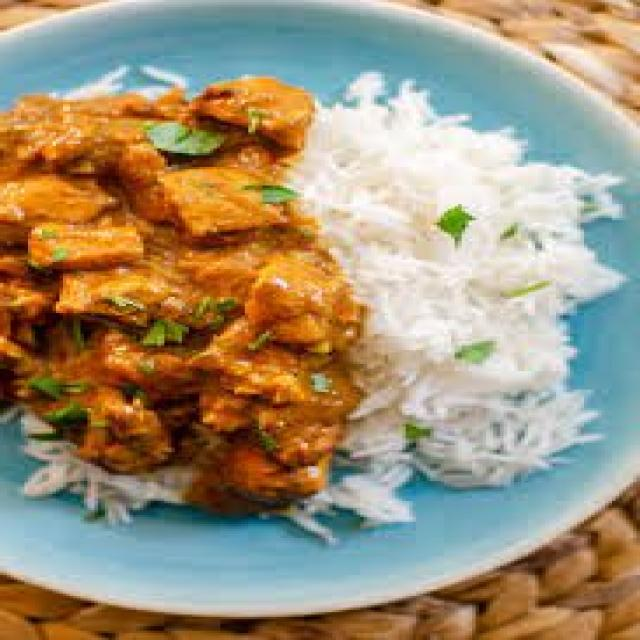Butter Chicken: (0, 59, 350, 509)
